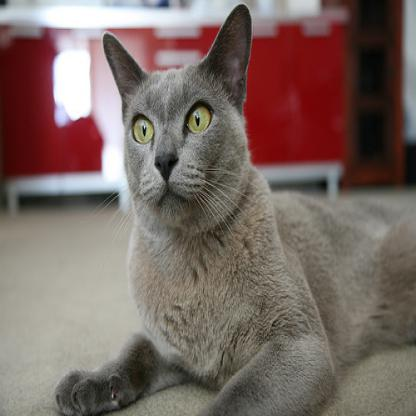cat: (52, 1, 414, 415)
